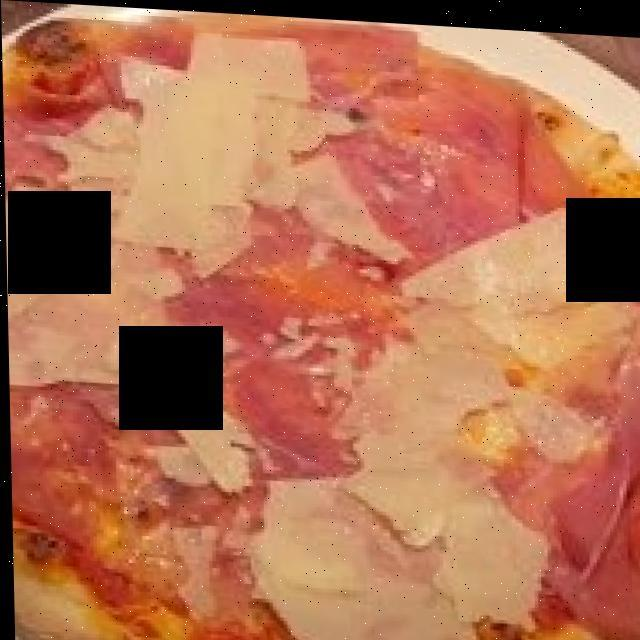cheese: (13, 25, 619, 627)
pizza: (13, 16, 632, 640)
